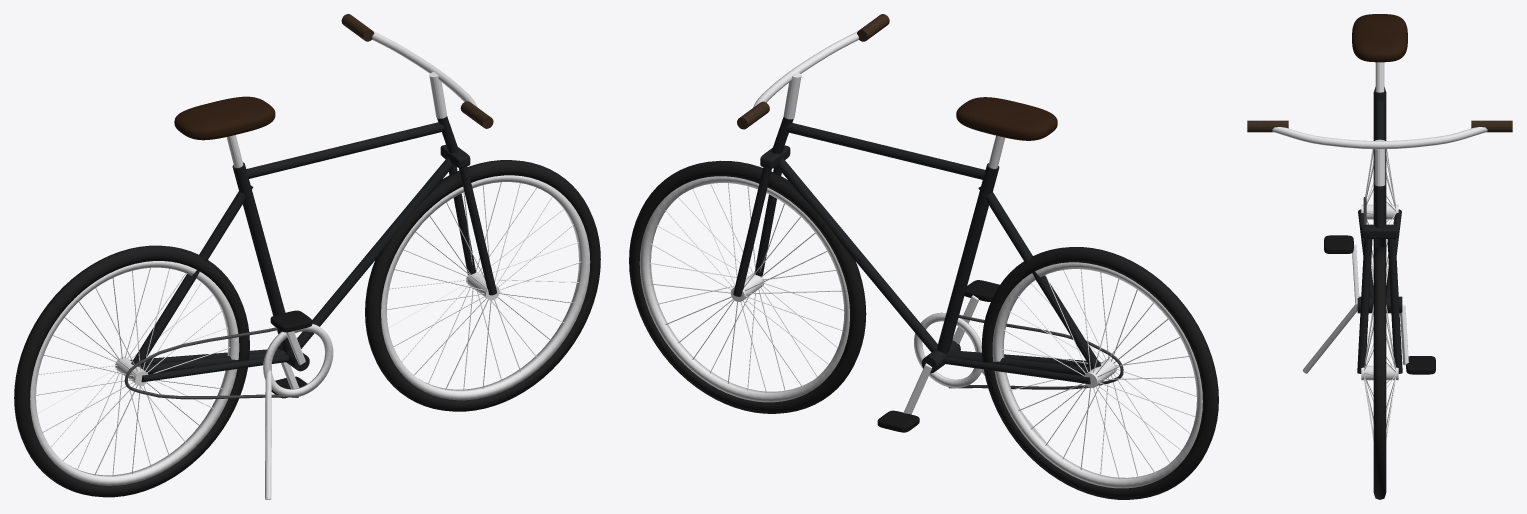
File: black-commuter.glb
3 renders of one model, left to right at view 1: azimuth 30°, elevation 25°; view 2: azimuth 150°, elevation 25°; view 3: azimuth 270°, elevation 25°, orthographic. The views are drawn at different scales.
Visible parts, largest first — view 1: chrome, tyre, paint_primary_frame, saddle_leather, chain_dark, grip_rubber, pedal; view 2: chrome, tyre, paint_primary_frame, saddle_leather, pedal, chain_dark, grip_rubber; view 3: chrome, paint_primary_frame, tyre, saddle_leather, pedal, grip_rubber.
Part boxes in pixels (x1,y1,x2,y2): chrome: [30, 31, 590, 499]; tyre: [14, 160, 600, 497]; paint_primary_frame: [130, 116, 496, 382]; saddle_leather: [174, 96, 275, 140]; chain_dark: [124, 327, 298, 399]; grip_rubber: [341, 14, 493, 128]; pedal: [270, 310, 312, 398]; chrome: [639, 31, 1202, 488]; tyre: [629, 160, 1218, 499]; paint_primary_frame: [733, 117, 1101, 384]; saddle_leather: [956, 97, 1057, 140]; pedal: [877, 280, 999, 432]; chain_dark: [948, 315, 1123, 389]; grip_rubber: [737, 14, 889, 129]; chrome: [1272, 62, 1487, 440]; paint_primary_frame: [1357, 91, 1402, 373]; tyre: [1373, 87, 1386, 499]; saddle_leather: [1352, 14, 1407, 62]; pedal: [1324, 235, 1435, 374]; grip_rubber: [1247, 120, 1512, 132].
Bounding box in the file's own units: 1.7 × 1.01 × 0.71.
Materials: 7 (4 with a texture image).
